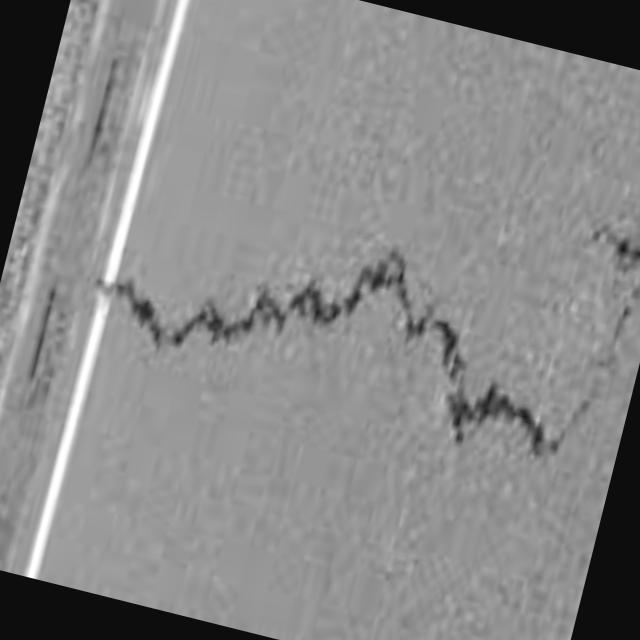crack: (77, 178, 570, 461), (529, 200, 640, 476)
